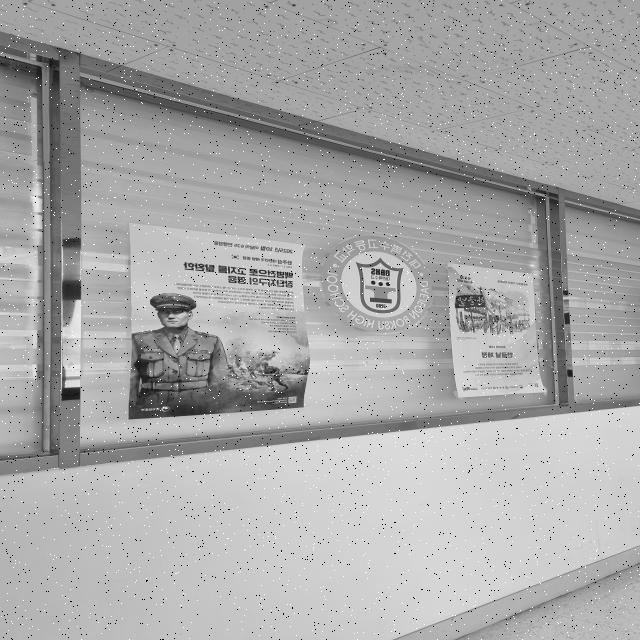logo: (318, 235, 437, 338)
